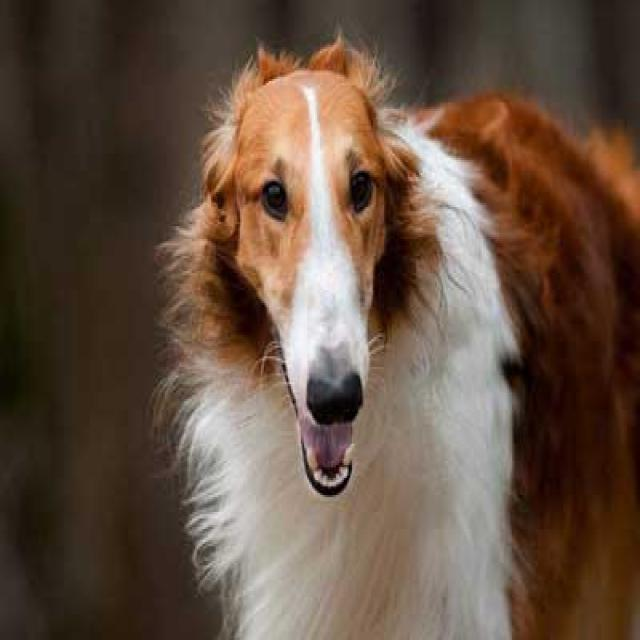dog: (137, 17, 507, 540)
